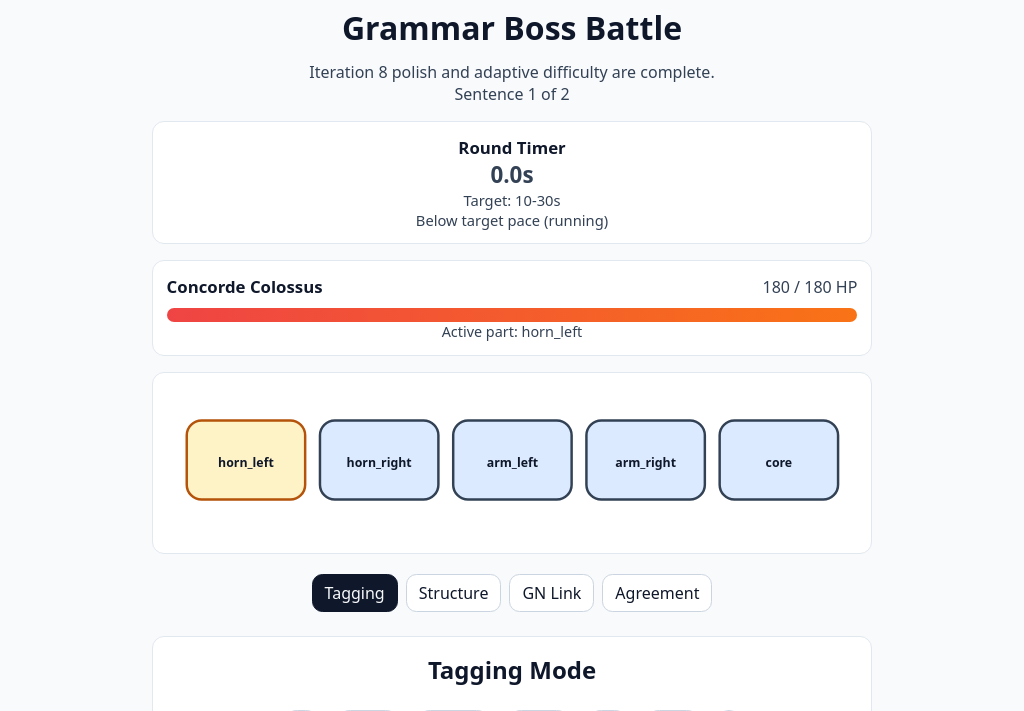
Scenario: App › secret click autofills GN link mode answers
What coordinates should you click on to do the following:
click the button "GN Link"
I would click on:
 (552, 593)
Its box is x1=509 y1=574 x2=594 y2=612.
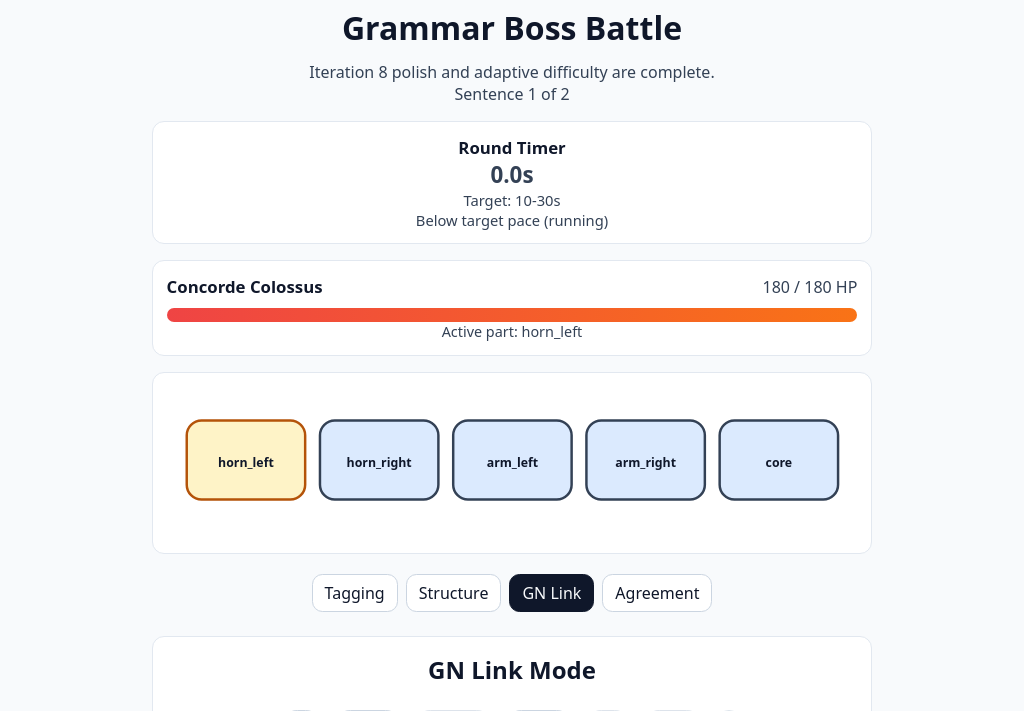
What coordinates should you click on to do the following:
click the text with test id "secret-autofill-trigger"
I would click on:
 (596, 28)
Its box is x1=585 y1=6 x2=606 y2=49.
(page scrolled)
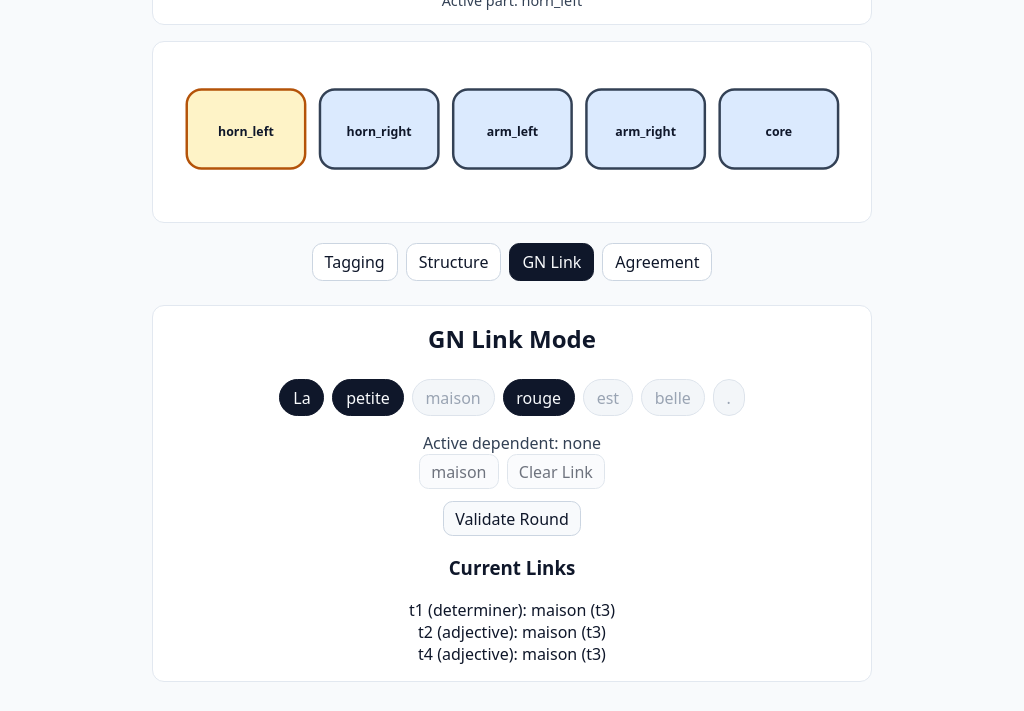
What coordinates should you click on to do the following:
click the button "Validate Round"
I would click on:
 (512, 519)
Its box is x1=443 y1=501 x2=581 y2=536.
(page scrolled)
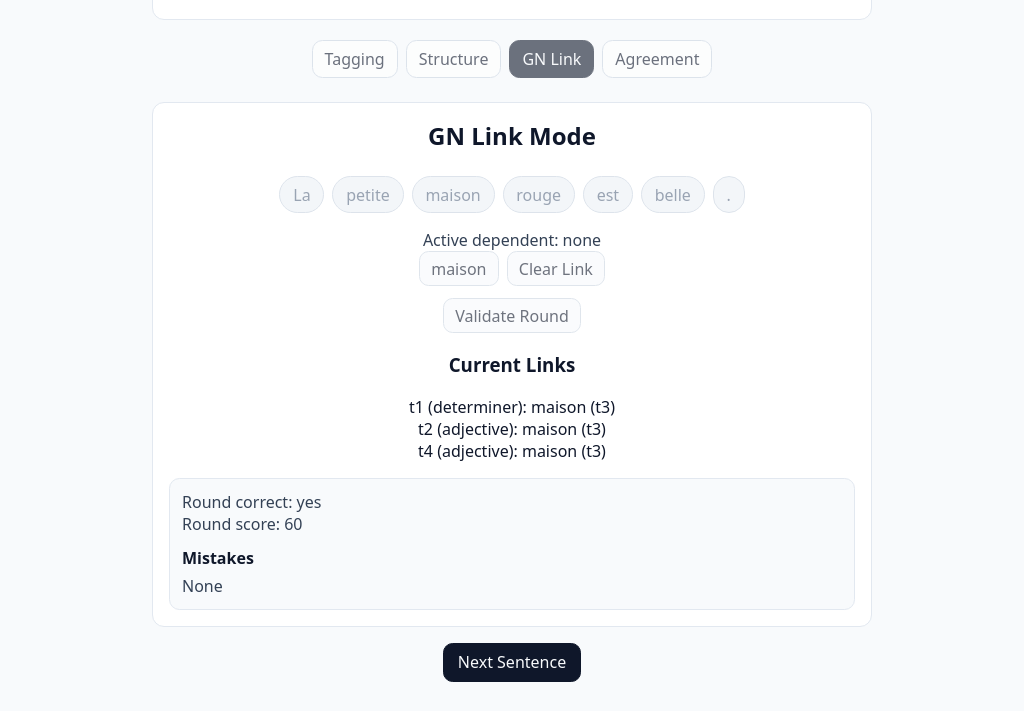
Now the text "Round correct: yes" is shown, box x1=182 y1=491 x2=322 y2=513
Now the text "Round score: 60" is shown, box x1=182 y1=513 x2=302 y2=535
